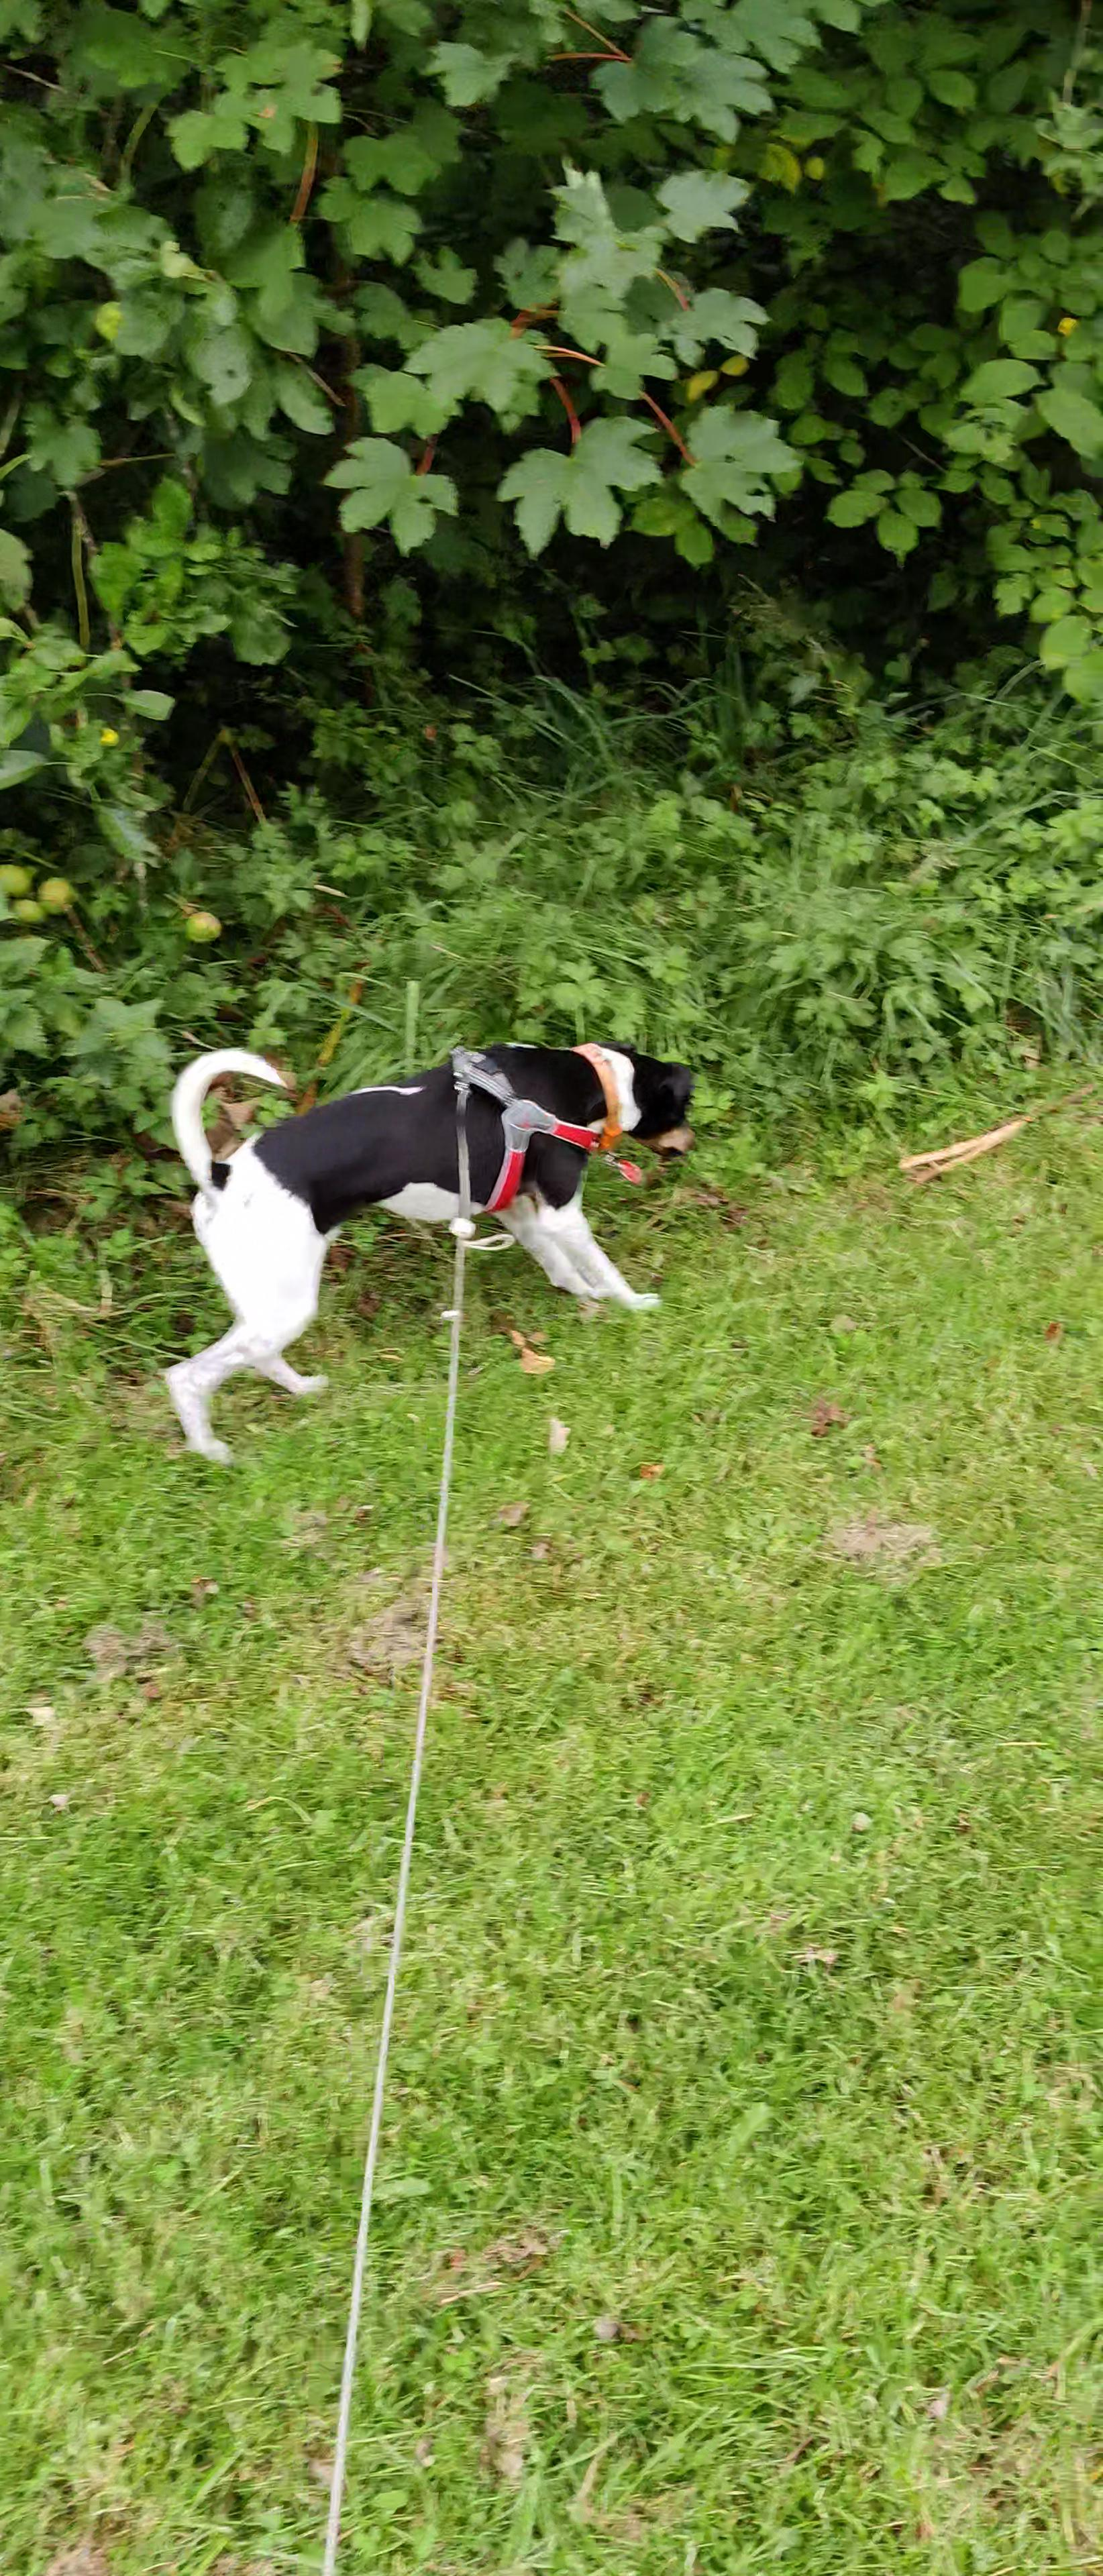Dog: (158, 1043, 702, 1469)
